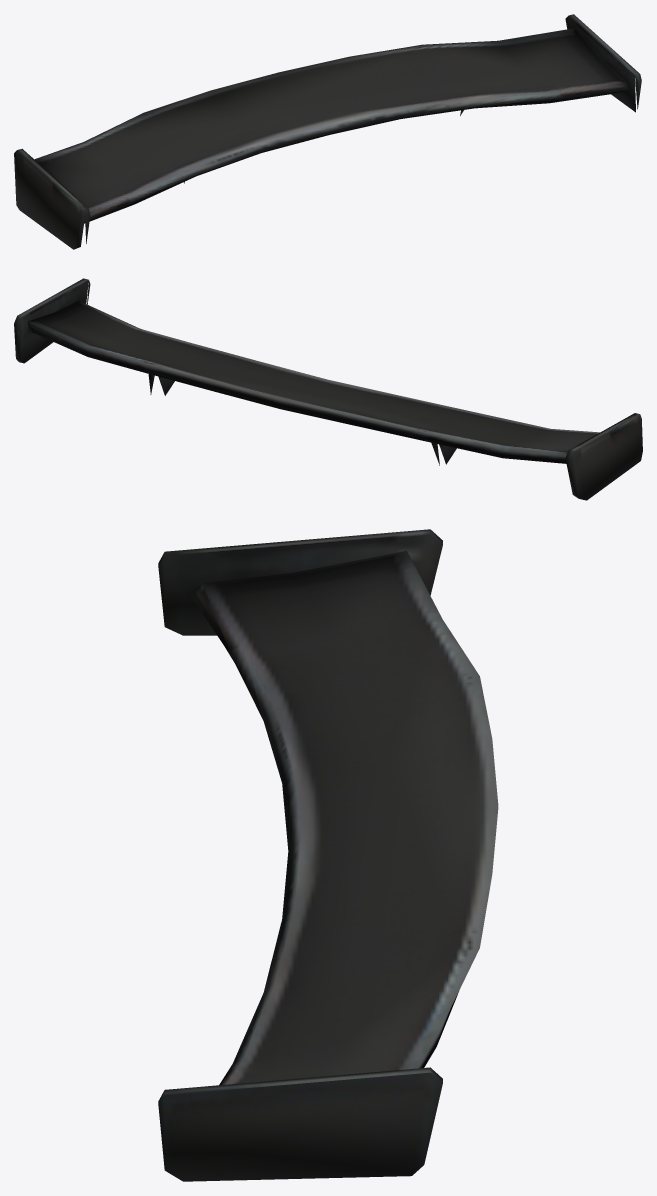
Rendered from blitz-rear_spoiler.glb.
3 renders of one model, top to bottom at view 1: azimuth 30°, elevation 25°; view 2: azimuth 150°, elevation 25°; view 3: azimuth 270°, elevation 25°, orthographic. The views are drawn at different scales.
Visible parts, largest first — view 1: Root; view 2: Root; view 3: Root.
Part boxes in pixels (bbox=[...]): Root: bbox=[14, 14, 641, 249]; Root: bbox=[14, 278, 642, 500]; Root: bbox=[158, 529, 498, 1181].
Size of the model in its own units: 1.53 by 0.1376 by 0.3982.
1 material, 1 textured.
